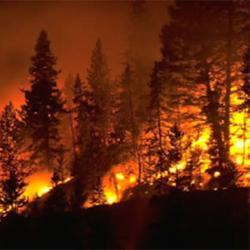fire: (230, 130, 250, 164), (26, 174, 52, 198), (188, 131, 211, 152), (104, 184, 122, 206), (171, 161, 191, 172)
